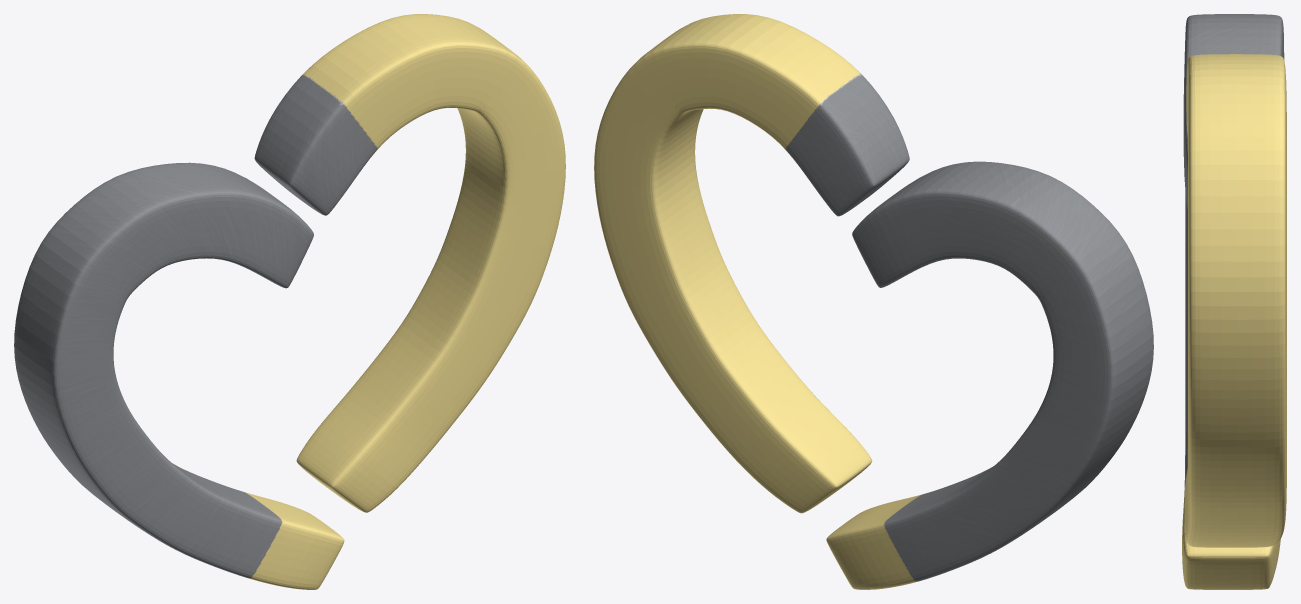
Rendered from MagMag_01.fbx.
3 views of the same model, side by side, from view 1: azimuth 30°, elevation 25°; view 2: azimuth 150°, elevation 25°; view 3: azimuth 270°, elevation 25° (orthographic). The views are drawn at different scales.
Parts seen in each view (by area): view 1: Magnus, Magnesia; view 2: Magnus, Magnesia; view 3: Magnus, Magnesia.
Boxes of the visible parts, <box> form: Magnus: <box>254,14,565,512</box>; Magnesia: <box>14,162,344,589</box>; Magnus: <box>594,14,909,513</box>; Magnesia: <box>826,161,1153,589</box>; Magnus: <box>1184,54,1286,547</box>; Magnesia: <box>1182,14,1284,589</box>.
Bounding box in the file's own units: 1547 × 1474 × 240.
